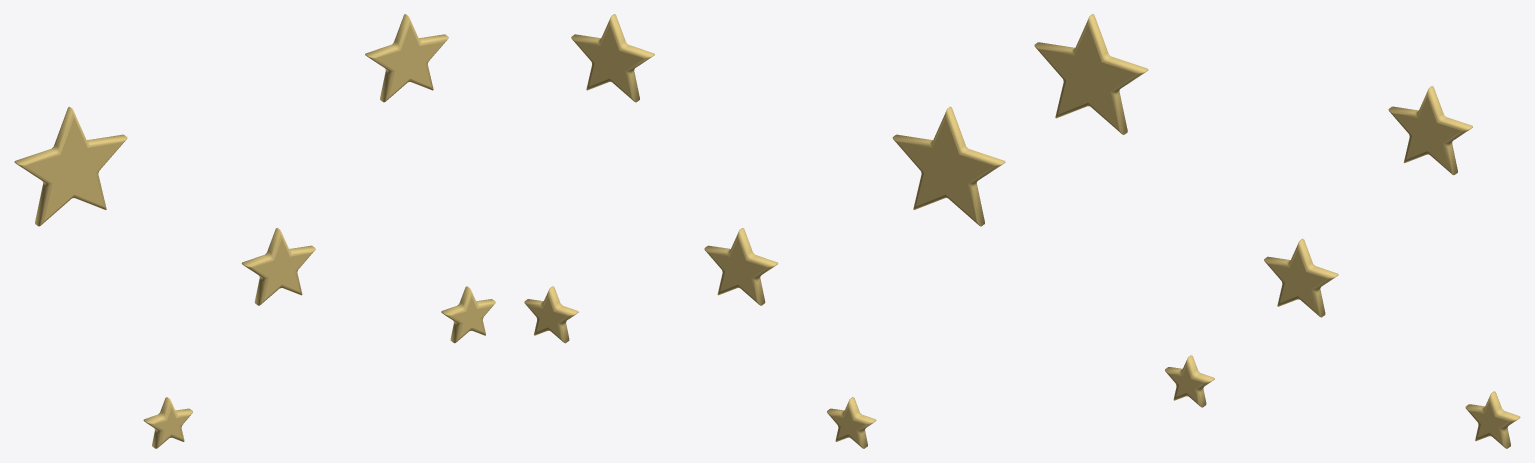
File: warm_star_set.glb
3 renders of one model, left to right at view 1: azimuth 30°, elevation 25°; view 2: azimuth 150°, elevation 25°; view 3: azimuth 330°, elevation 25°, orthographic.
Parts seen in each view (by area): view 1: PropGeometryGeometry; view 2: PropGeometryGeometry; view 3: PropGeometryGeometry.
Part boxes in pixels (box(x1,y1,x2,y2)): PropGeometryGeometry: box(14, 14, 495, 448); PropGeometryGeometry: box(524, 14, 1005, 448); PropGeometryGeometry: box(1034, 14, 1520, 448).
Size of the model in its own units: 1.86 by 1.38 by 0.045.
